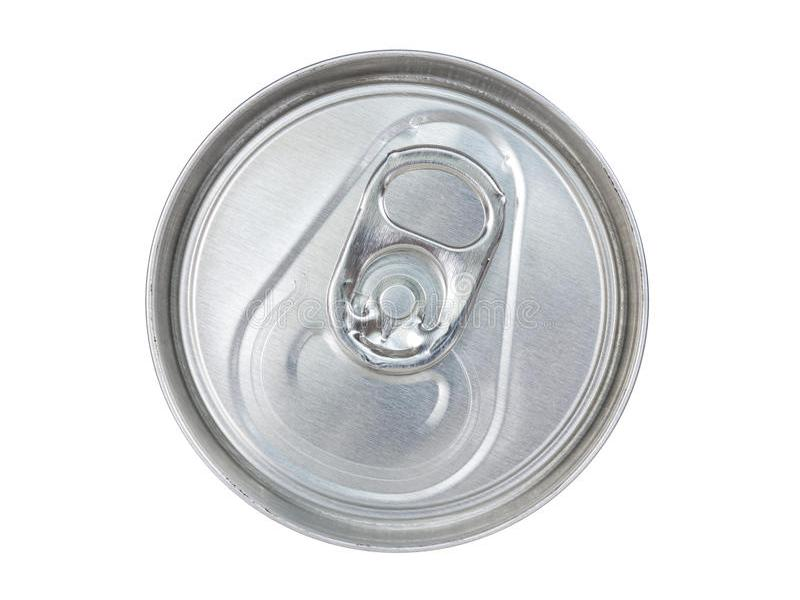can: (135, 39, 662, 558)
